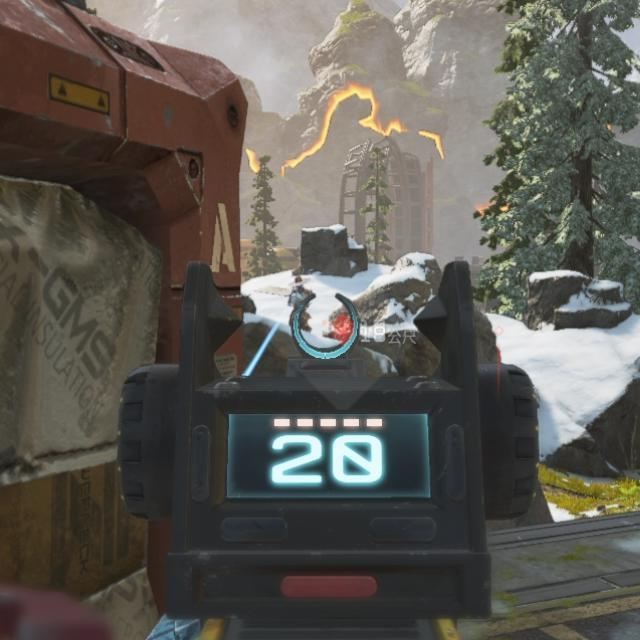avatar: (285, 274, 315, 331)
